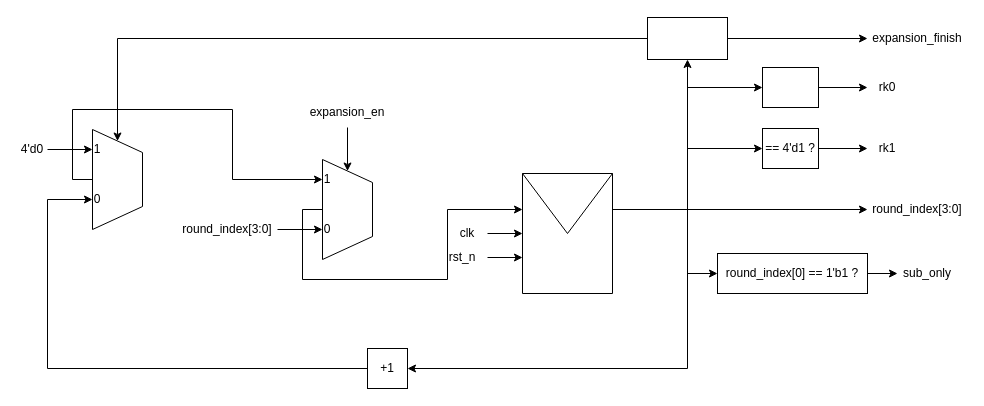
This 984x406 diagram has some shape labels left out. Each missing label, with the centre of its shape:
"== 4'd0 ?" belongs at point 790,87.
"== 4'd12 ?" belongs at point 687,38.
